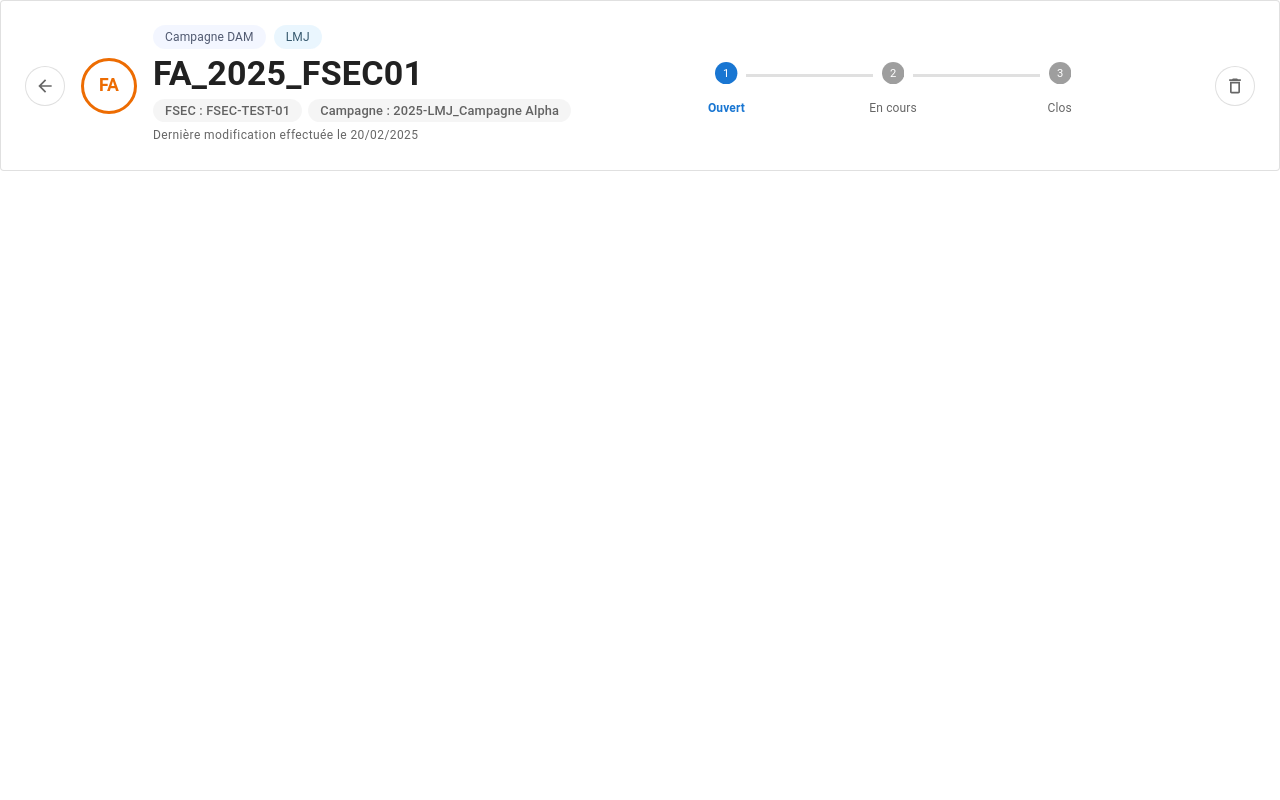
FaHeader › Delete flow › should close dialog on cancel click
The image size is (1280, 800).
Click the button named "Supprimer la FA". click: (1235, 86)
box: [1215,66,1255,106]
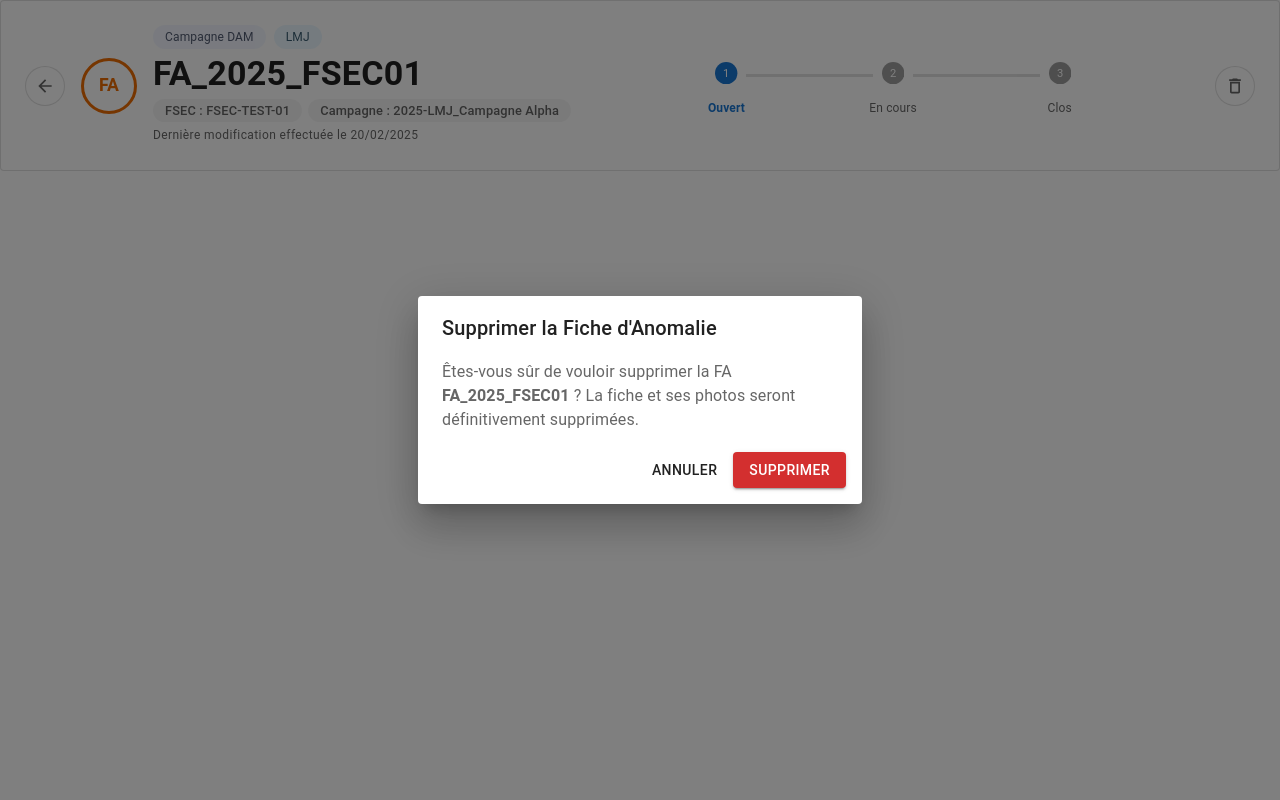
Click the button "Annuler". click: (685, 470)
box: [644,452,725,488]
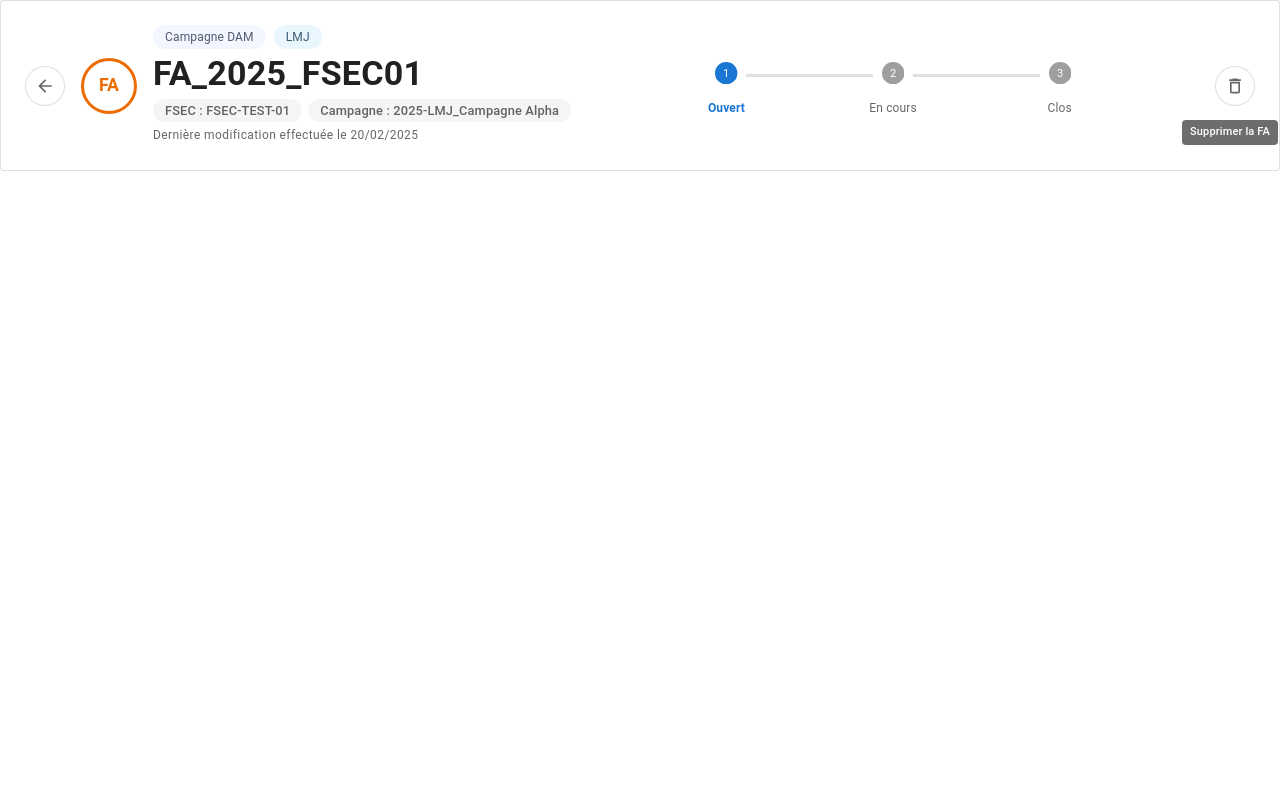
Expected: the dialog is gone
